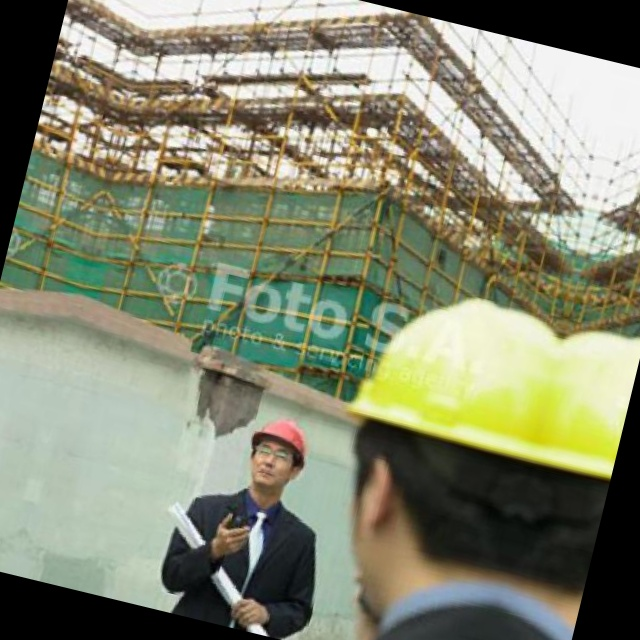helmet: (341, 216, 554, 582), (558, 215, 637, 583), (270, 408, 344, 504)
person: (218, 420, 376, 637)
